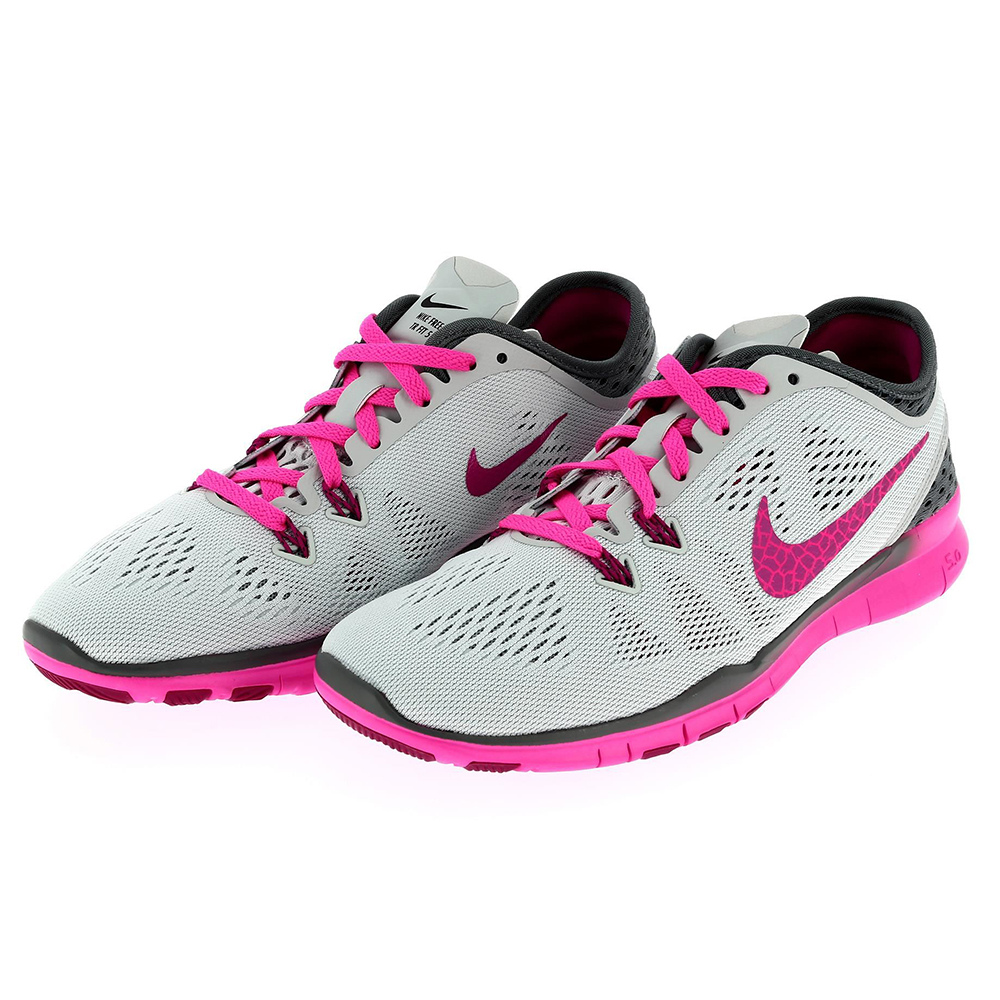Nike: (750, 427, 932, 601), (459, 407, 572, 500)
